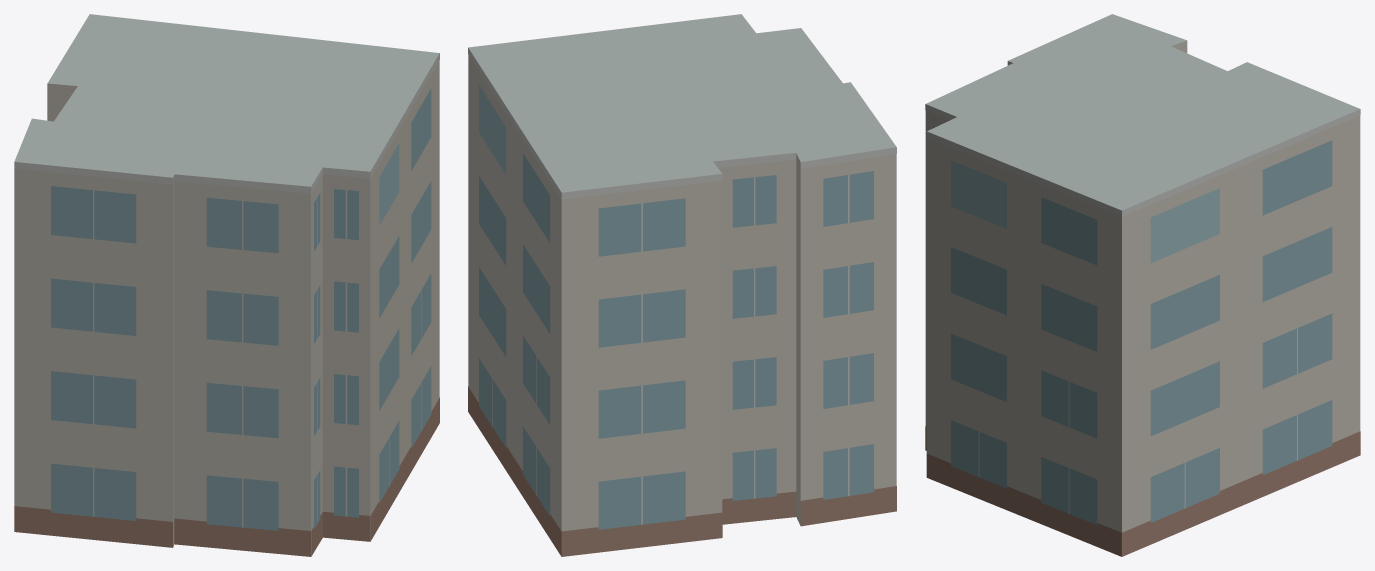
The model's file is survey-upis-32752098.glb.
The picture shows the model from 3 angles, left to right: view 1: azimuth 30°, elevation 25°; view 2: azimuth 150°, elevation 25°; view 3: azimuth 270°, elevation 25°; orthographic projection. The views are drawn at different scales.
Parts seen in each view (by area): view 1: survey-upis-32752098.tmp; view 2: survey-upis-32752098.tmp; view 3: survey-upis-32752098.tmp.
Part boxes in pixels (box(x1,y1,x2,y2)): survey-upis-32752098.tmp: box(14, 14, 439, 556); survey-upis-32752098.tmp: box(468, 14, 896, 556); survey-upis-32752098.tmp: box(925, 14, 1360, 556).
Bounding box in the file's own units: 16.09 × 13.21 × 15.04.
